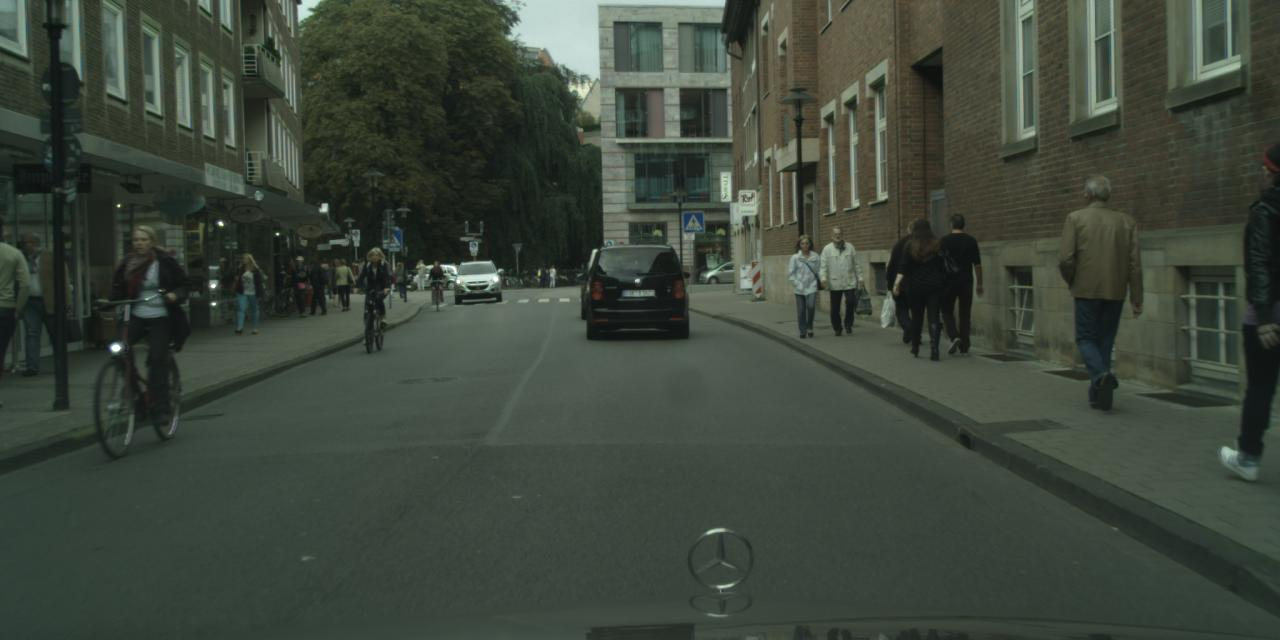ped: (1210, 140, 1279, 476), (1052, 175, 1146, 403), (104, 225, 179, 407), (11, 230, 69, 372), (929, 214, 987, 354), (894, 216, 951, 356), (888, 220, 938, 342), (818, 225, 863, 334), (784, 234, 826, 336), (357, 247, 392, 334), (230, 253, 262, 332), (288, 255, 312, 318), (304, 258, 327, 314), (266, 254, 288, 307), (334, 258, 355, 310), (280, 258, 301, 310), (326, 259, 345, 307), (428, 260, 445, 302), (392, 262, 407, 297), (356, 256, 370, 292), (318, 263, 332, 298), (415, 259, 427, 289), (538, 262, 548, 287), (547, 263, 556, 287)
